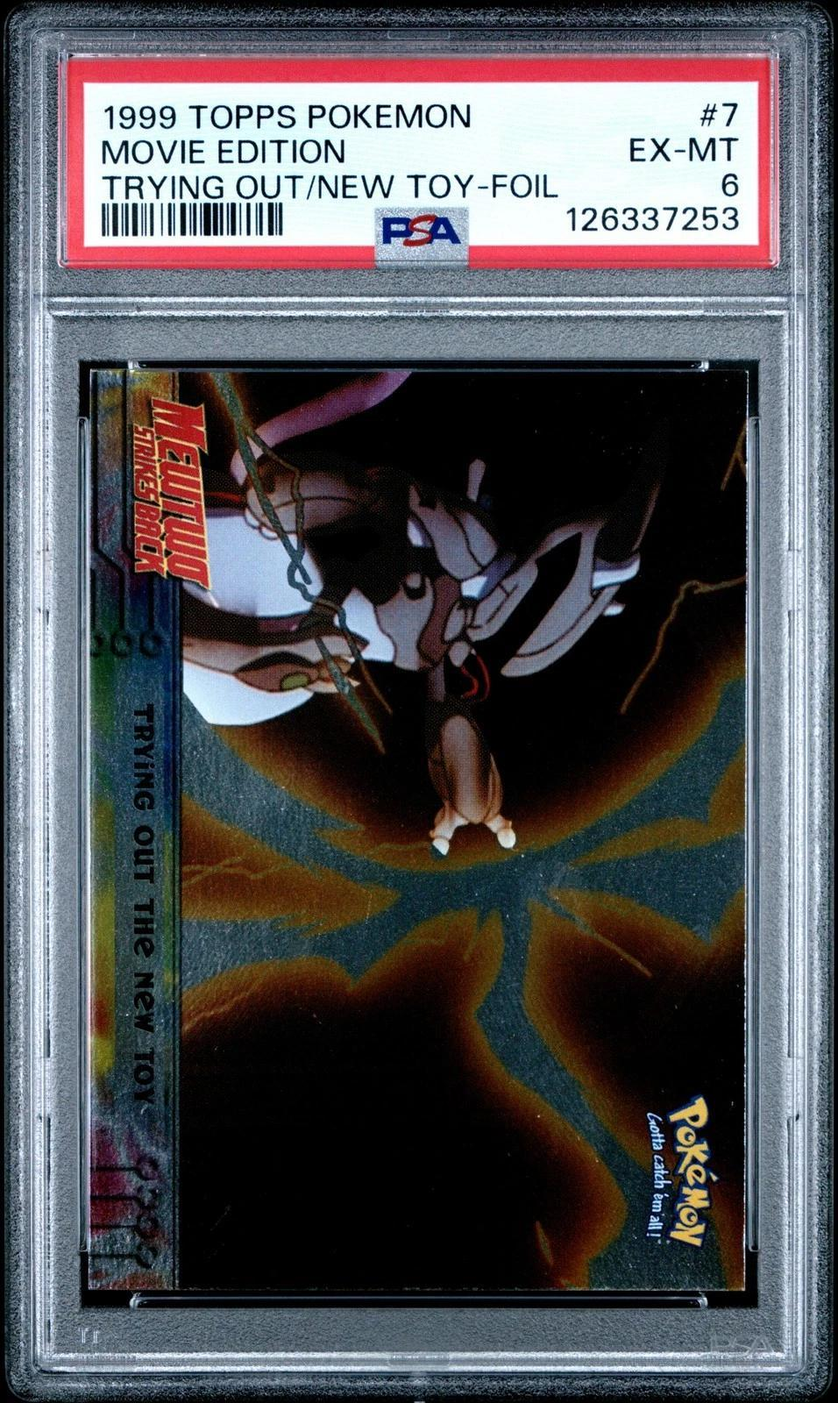card-2UtV: (87, 368, 750, 1292)
